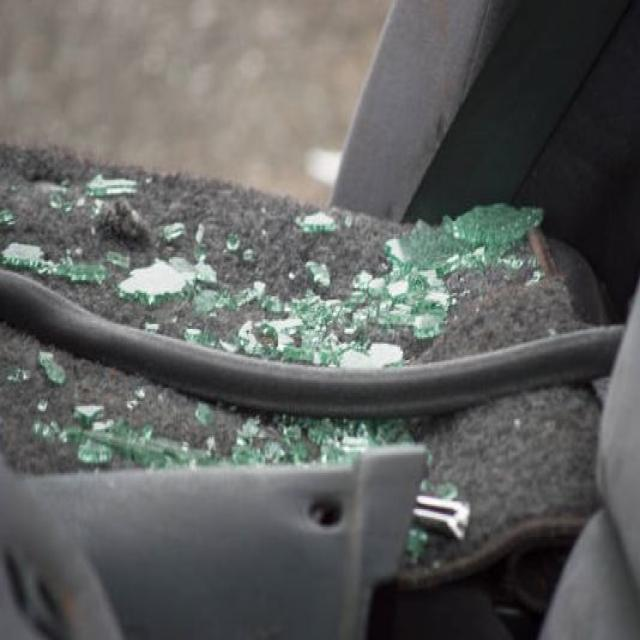electronic: (239, 196, 546, 370)
